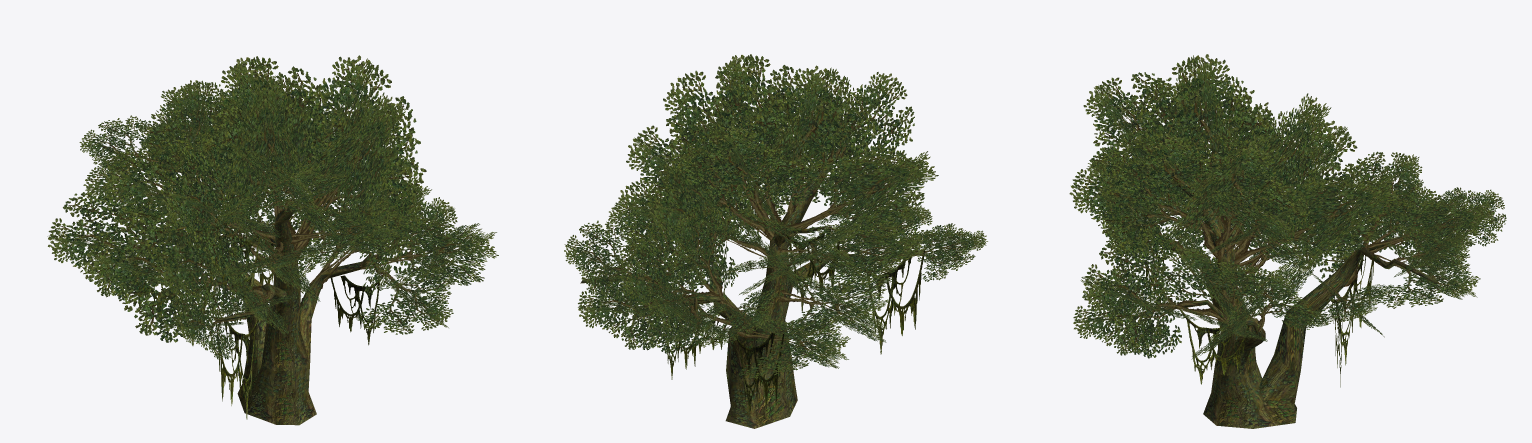
Rendered from c_swamp_tree05.glb.
The picture shows the model from 3 angles, left to right: view 1: azimuth 30°, elevation 25°; view 2: azimuth 150°, elevation 25°; view 3: azimuth 270°, elevation 25°; orthographic projection. The views are drawn at different scales.
Visible parts, largest first — view 1: C_swamp_tree_05_01, C_swamp_tree_05_03, C_swamp_tree_05_02, C_swamp_tree_05_04; view 2: C_swamp_tree_05_01, C_swamp_tree_05_03, C_swamp_tree_05_04, C_swamp_tree_05_02; view 3: C_swamp_tree_05_01, C_swamp_tree_05_03, C_swamp_tree_05_02, C_swamp_tree_05_04.
Part boxes in pixels (bbox=[...]): C_swamp_tree_05_01: bbox=[47, 55, 498, 359]; C_swamp_tree_05_03: bbox=[101, 144, 380, 371]; C_swamp_tree_05_02: bbox=[237, 337, 316, 425]; C_swamp_tree_05_04: bbox=[124, 215, 384, 419]; C_swamp_tree_05_01: bbox=[564, 54, 987, 379]; C_swamp_tree_05_03: bbox=[580, 155, 923, 379]; C_swamp_tree_05_04: bbox=[664, 226, 924, 418]; C_swamp_tree_05_02: bbox=[725, 356, 797, 428]; C_swamp_tree_05_01: bbox=[1069, 54, 1506, 359]; C_swamp_tree_05_03: bbox=[1146, 166, 1494, 376]; C_swamp_tree_05_02: bbox=[1203, 355, 1300, 428]; C_swamp_tree_05_04: bbox=[1145, 210, 1376, 387].
Size of the model in its own units: 67.49 by 66.37 by 76.22.
Materials: 3 (3 with a texture image).
